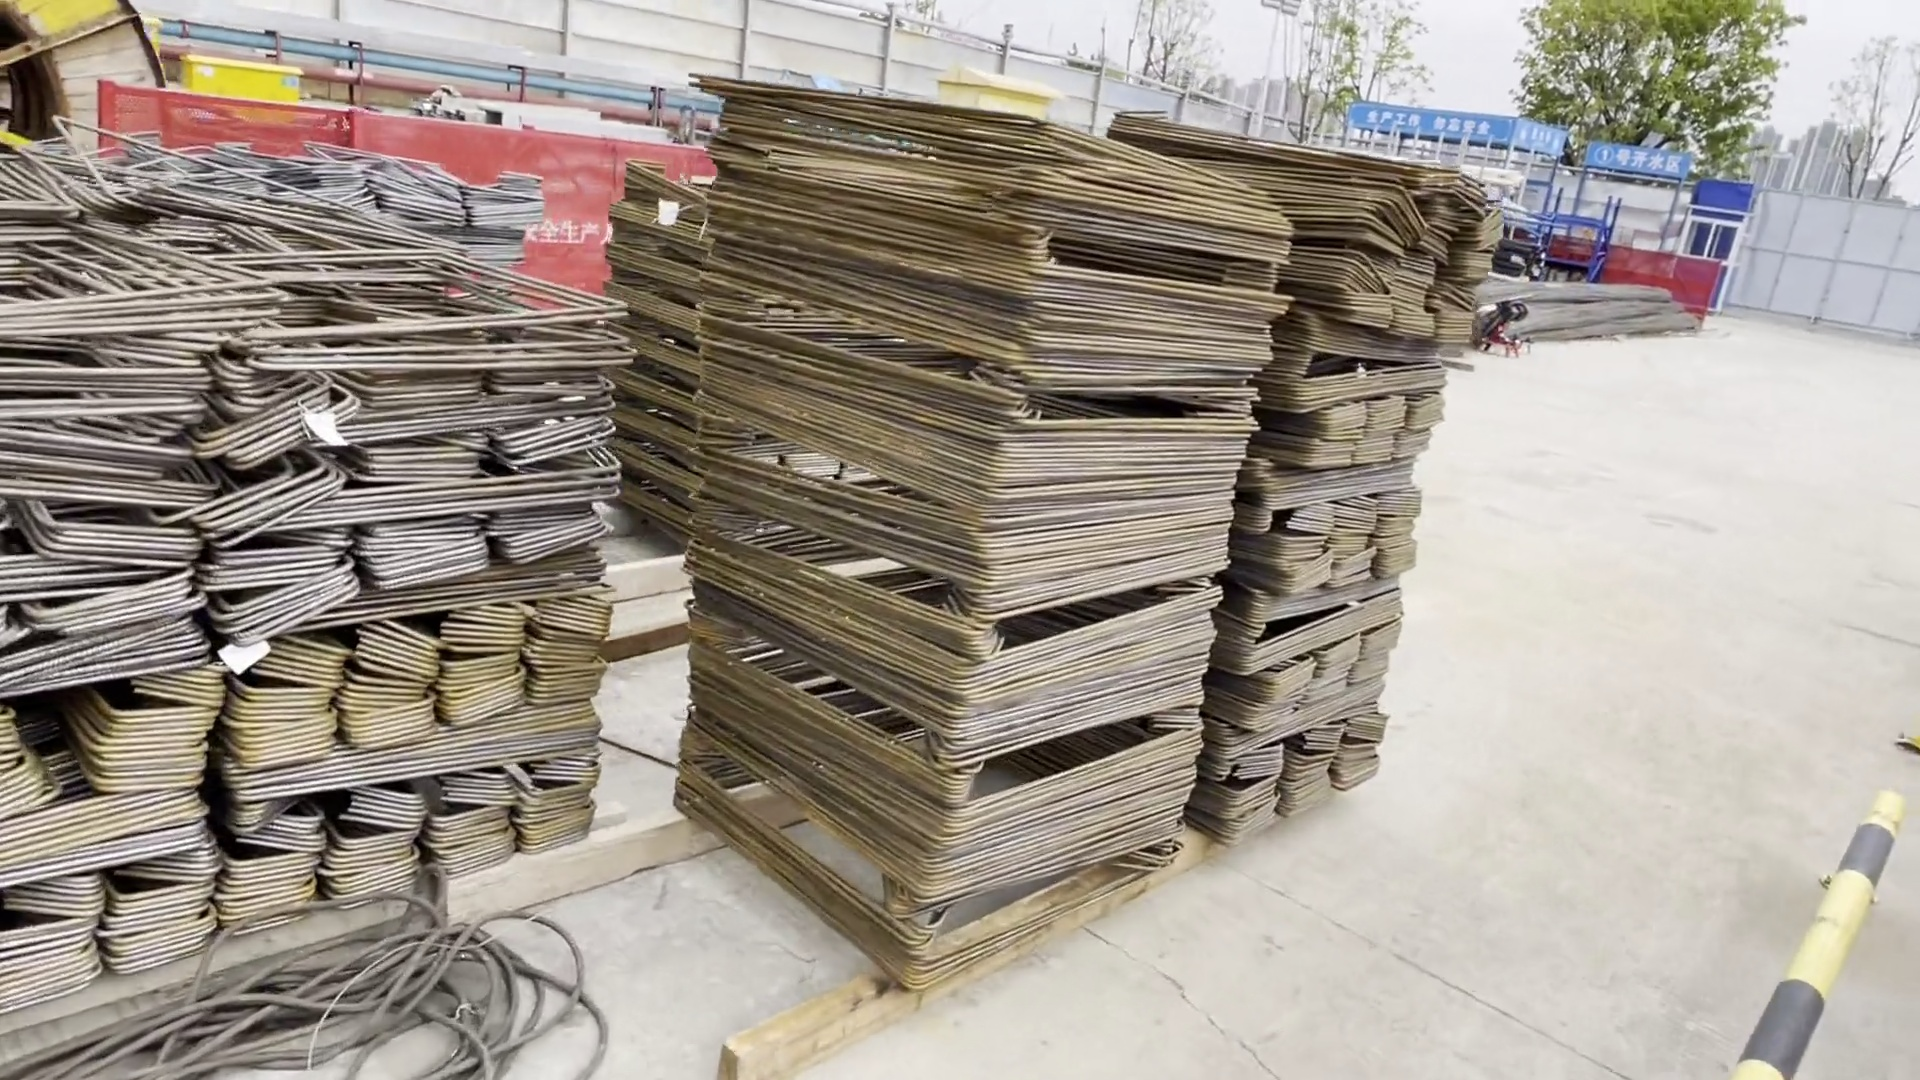ebox: (175, 57, 297, 108)
fence: (102, 83, 607, 293), (1607, 240, 1712, 313)
rebar: (1484, 277, 1696, 344)
slogan: (1346, 105, 1511, 146)
